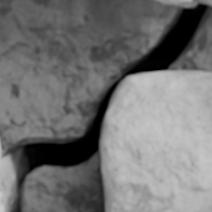brick: (101, 71, 211, 211), (0, 164, 1, 211)
broken_brick: (153, 0, 196, 7), (203, 0, 211, 6)
crack: (0, 0, 210, 211)
